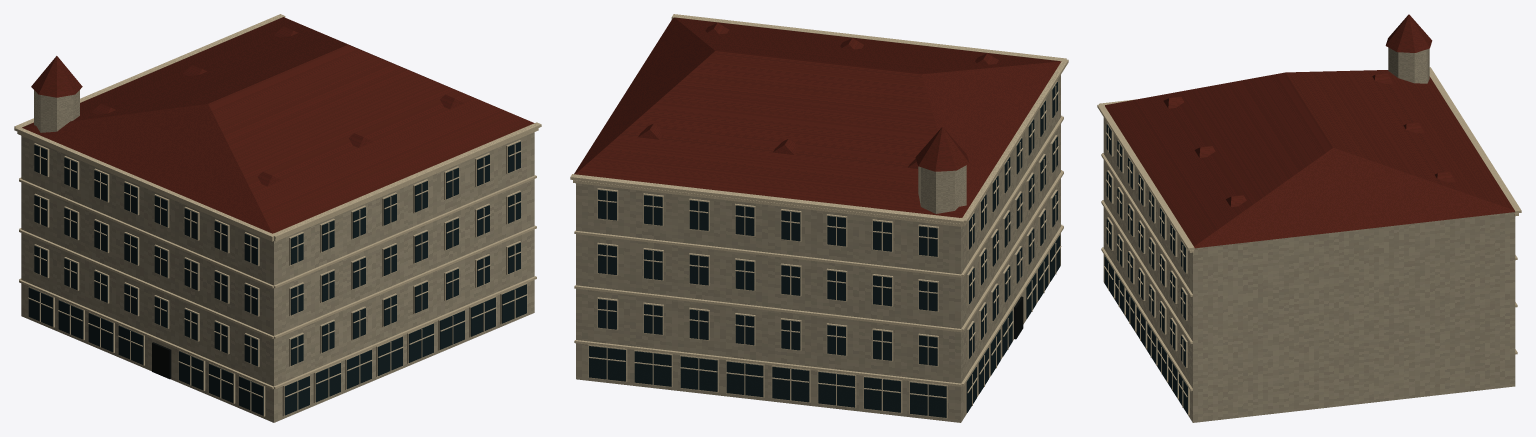
The picture shows the model from 3 angles, left to right: view 1: azimuth 30°, elevation 25°; view 2: azimuth 150°, elevation 25°; view 3: azimuth 270°, elevation 25°; orthographic projection. The views are drawn at different scales.
Parts seen in each view (by area): view 1: esders-hoofdsteeg-0, esders-hoofdsteeg-1, esders-hoofdsteeg-3, esders-hoofdsteeg-2, esders-hoofdsteeg-4; view 2: esders-hoofdsteeg-1, esders-hoofdsteeg-0, esders-hoofdsteeg-3, esders-hoofdsteeg-2; view 3: esders-hoofdsteeg-0, esders-hoofdsteeg-1, esders-hoofdsteeg-2, esders-hoofdsteeg-3.
Part boxes in pixels (x1,y1,x2,y2): esders-hoofdsteeg-0: (21,90,534,422); esders-hoofdsteeg-1: (22,17,534,233); esders-hoofdsteeg-3: (28,141,526,415); esders-hoofdsteeg-2: (14,14,541,416); esders-hoofdsteeg-4: (152,342,171,379); esders-hoofdsteeg-1: (574,17,1061,217); esders-hoofdsteeg-0: (576,75,1060,422); esders-hoofdsteeg-3: (589,82,1060,417); esders-hoofdsteeg-2: (570,14,1068,418); esders-hoofdsteeg-0: (1103,47,1515,422); esders-hoofdsteeg-1: (1105,14,1514,248); esders-hoofdsteeg-2: (1097,67,1521,415); esders-hoofdsteeg-3: (1104,124,1187,414).
Bounding box in the file's own units: 40 × 25 × 39.42.
Materials: 5 (5 with a texture image).
